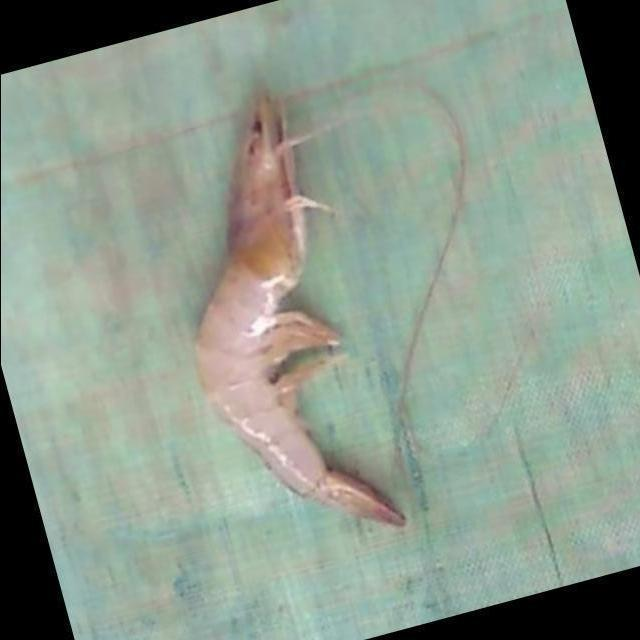shrimp: (195, 92, 405, 527)
